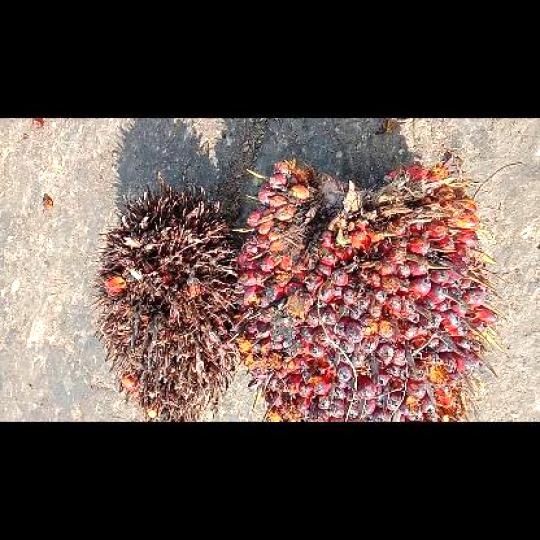masak: (230, 158, 505, 420)
terlalu masak: (94, 175, 238, 420)
